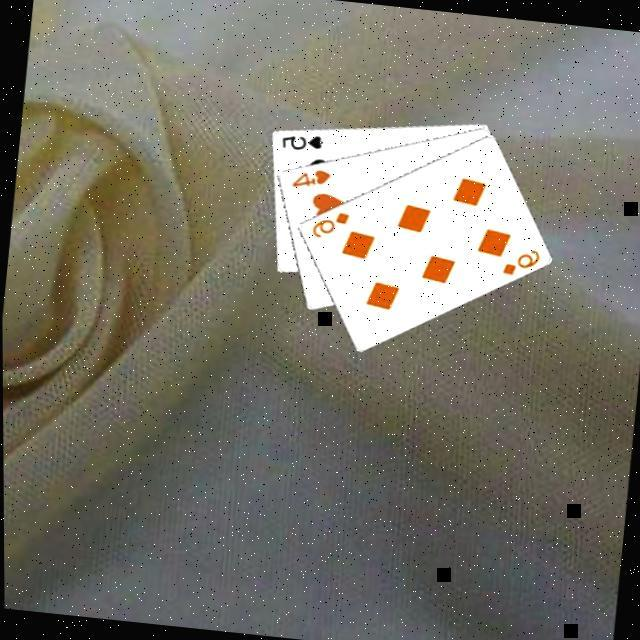4H: (284, 161, 332, 192)
5S: (275, 125, 323, 154)
6D: (304, 204, 350, 242), (496, 241, 541, 279)
